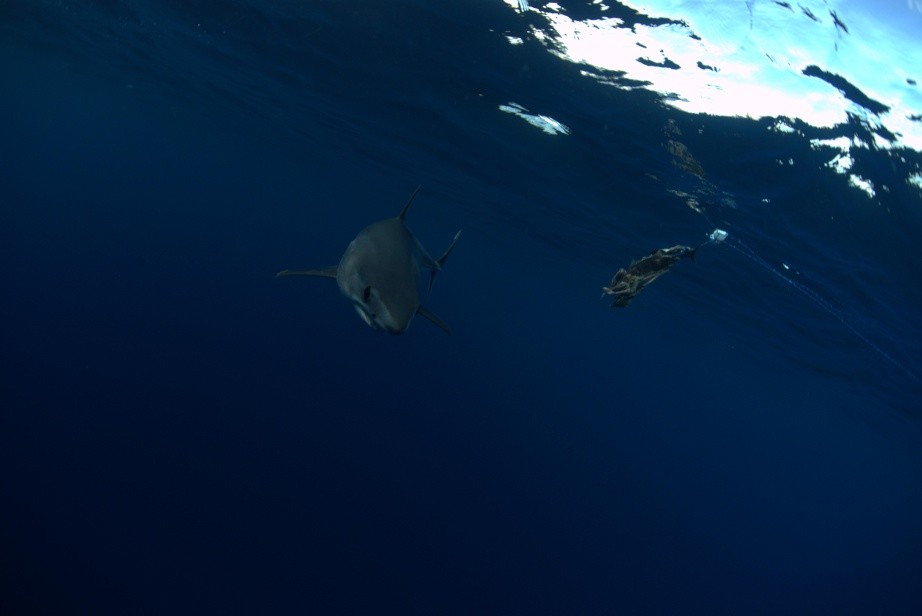Mako: (254, 178, 485, 354)
